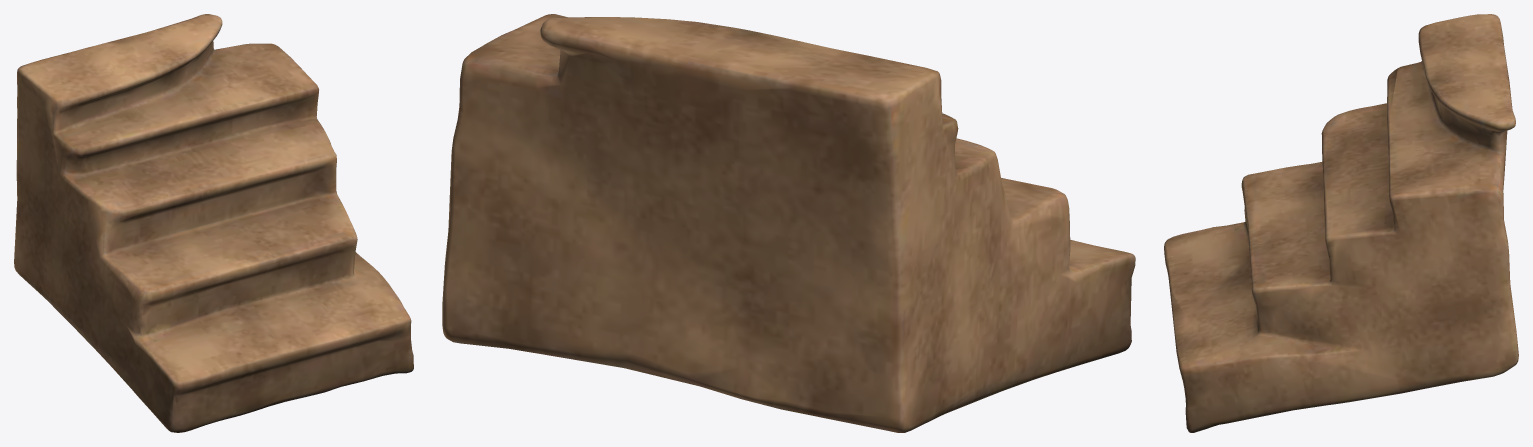
The model's file is weathered-sandstone-straight-staircase-v001.glb.
3 renders of one model, left to right at view 1: azimuth 30°, elevation 25°; view 2: azimuth 150°, elevation 25°; view 3: azimuth 270°, elevation 25°, orthographic. The views are drawn at different scales.
Parts seen in each view (by area): view 1: weathered-sandstone-straight-staircase; view 2: weathered-sandstone-straight-staircase; view 3: weathered-sandstone-straight-staircase.
Boxes of the visible parts, x1=… form: weathered-sandstone-straight-staircase: x1=14, y1=14, x2=413, y2=432; weathered-sandstone-straight-staircase: x1=442, y1=14, x2=1135, y2=432; weathered-sandstone-straight-staircase: x1=1164, y1=14, x2=1518, y2=432.
Size of the model in its own units: 1.69 by 1.59 by 1.78.
1 material, 1 textured.
